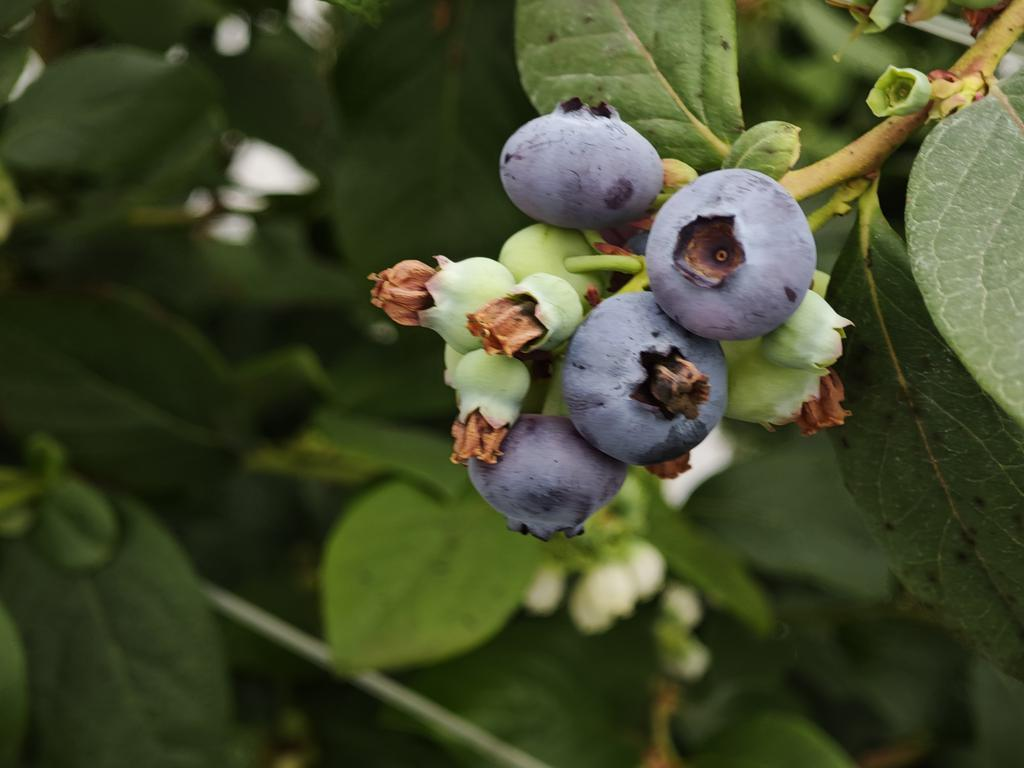RipeBlueBerry: (641, 166, 820, 344), (559, 289, 736, 467), (496, 97, 666, 233), (462, 409, 631, 545)
